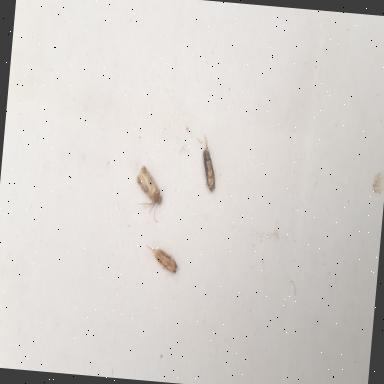pbw: (132, 165, 166, 222), (200, 134, 219, 192), (144, 245, 179, 276)
